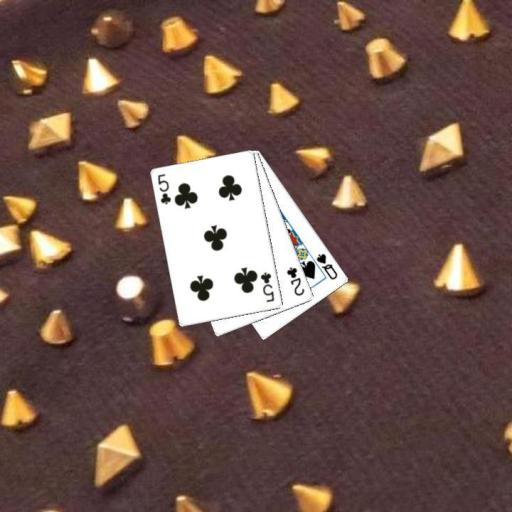2C: (284, 264, 307, 297)
5C: (257, 270, 276, 304), (155, 171, 173, 206)
QS: (314, 250, 339, 282)
